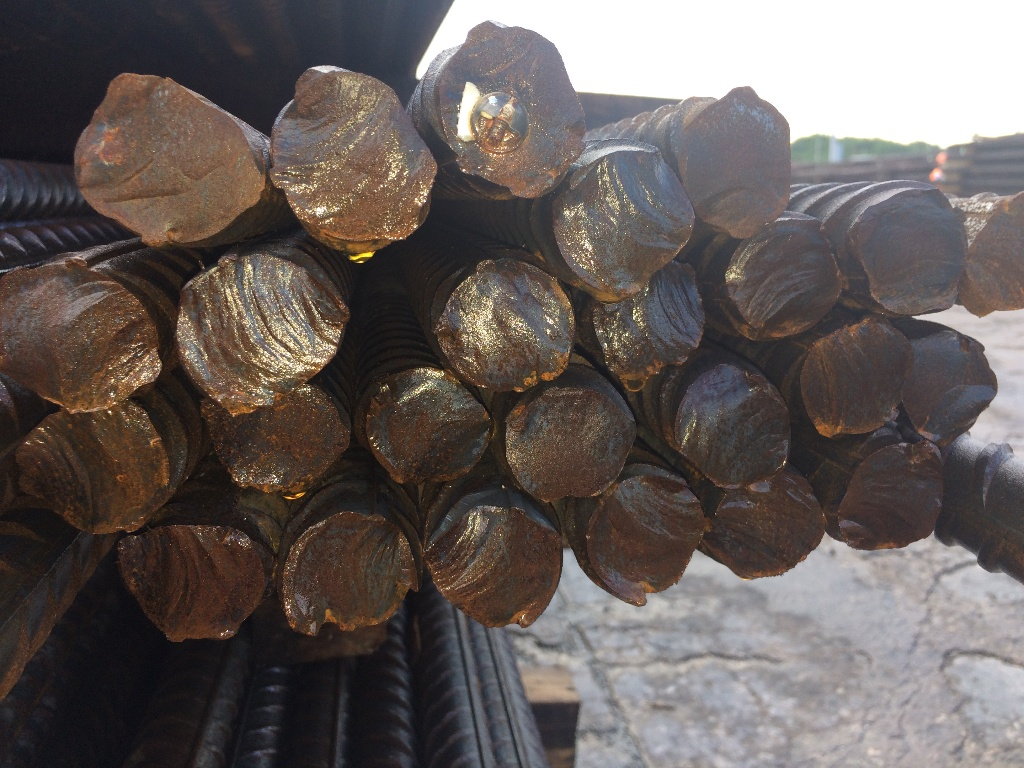dipstick: (271, 62, 434, 260), (75, 80, 263, 244), (435, 22, 583, 194), (177, 251, 340, 401), (2, 280, 157, 408), (21, 411, 169, 530), (560, 150, 687, 285), (120, 527, 264, 638), (446, 263, 571, 389), (280, 515, 414, 632), (431, 504, 561, 623), (686, 92, 788, 235), (203, 395, 347, 495), (677, 364, 791, 488), (364, 375, 490, 483), (587, 477, 699, 598), (856, 190, 966, 312), (509, 389, 629, 498), (730, 225, 844, 334), (595, 268, 702, 376), (802, 325, 904, 435), (714, 487, 827, 580), (842, 445, 942, 548), (904, 332, 1000, 435), (969, 197, 1024, 310)
